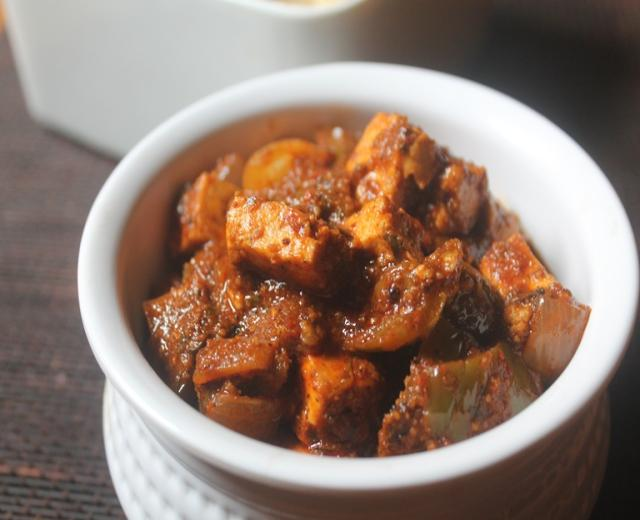kadai paneer: (71, 62, 632, 520), (0, 18, 134, 520), (0, 3, 412, 162), (102, 393, 260, 517), (224, 196, 357, 298), (483, 1, 639, 73), (196, 288, 316, 379), (143, 258, 219, 393), (0, 108, 77, 240), (0, 0, 51, 140), (176, 158, 246, 251), (341, 195, 426, 268), (200, 374, 288, 438), (203, 243, 254, 328), (33, 120, 119, 163), (483, 200, 526, 259), (221, 0, 375, 16)
